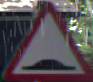Speed Breaker ahead: (4, 2, 92, 78)
